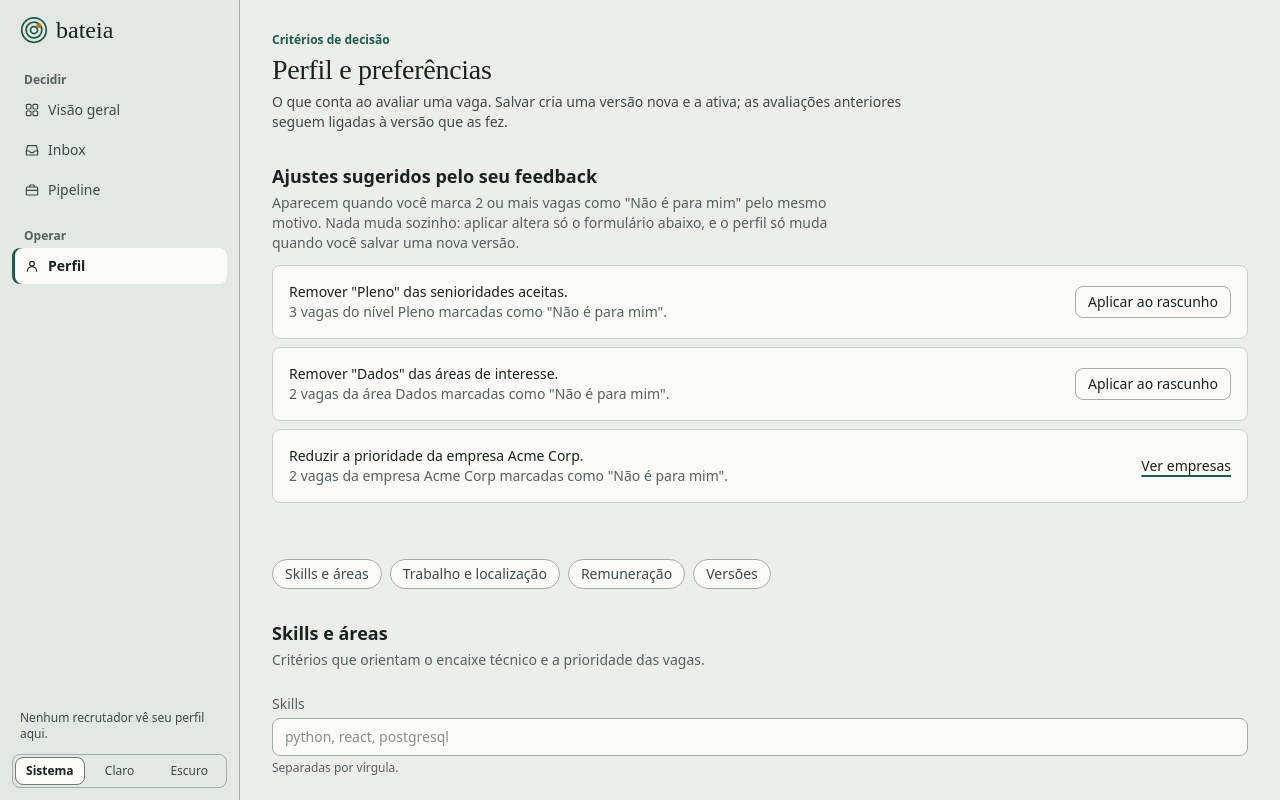
Scenario: ProfilePage — ajustes sugeridos pelo feedback › aplicar altera só o rascunho do formulário e nunca grava uma versão
What coordinates should you click on to do the following:
click the button "Aplicar ao rascunho" in the row of "do nível"
I would click on:
 (1153, 302)
Its box is [1075,286,1231,318].
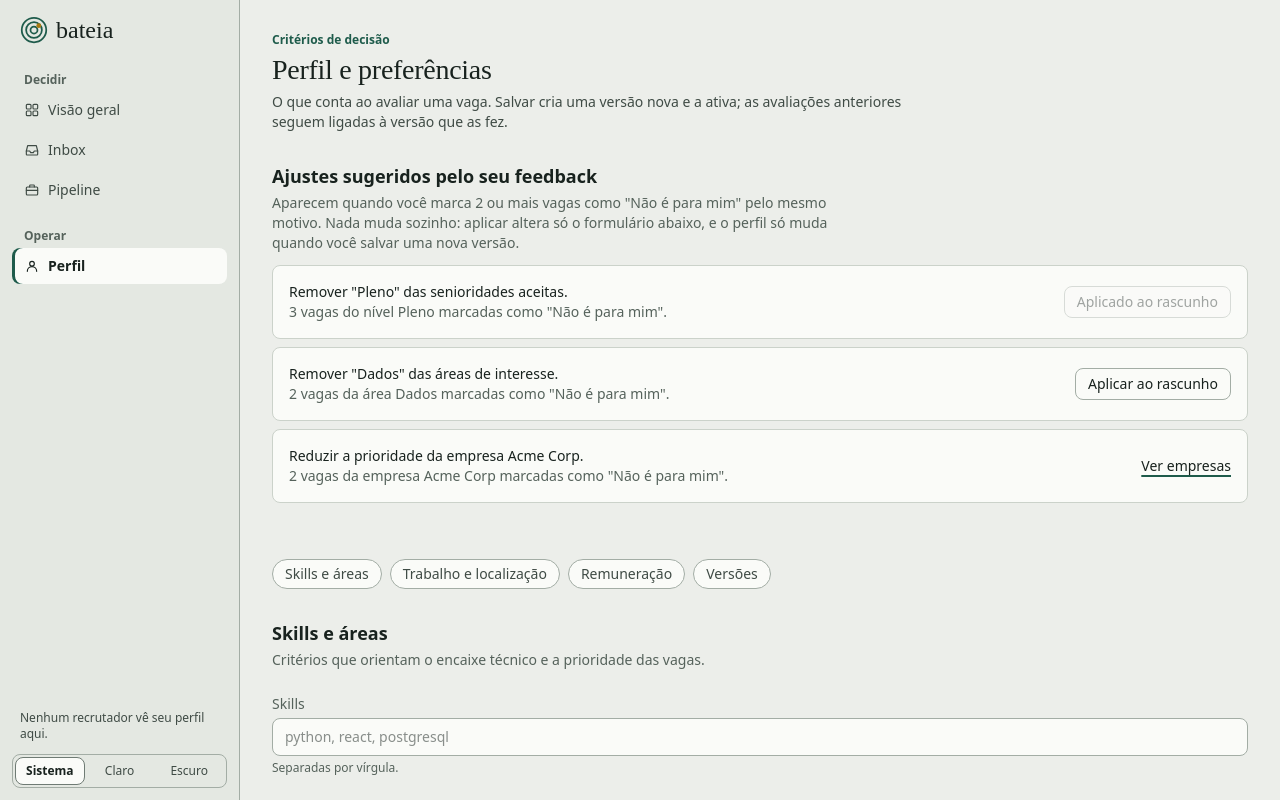
Result: the button "Aplicado ao rascunho" is shown at [1064,286,1231,318]
Result: the button "Aplicado ao rascunho" is disabled at [1064,286,1231,318]
